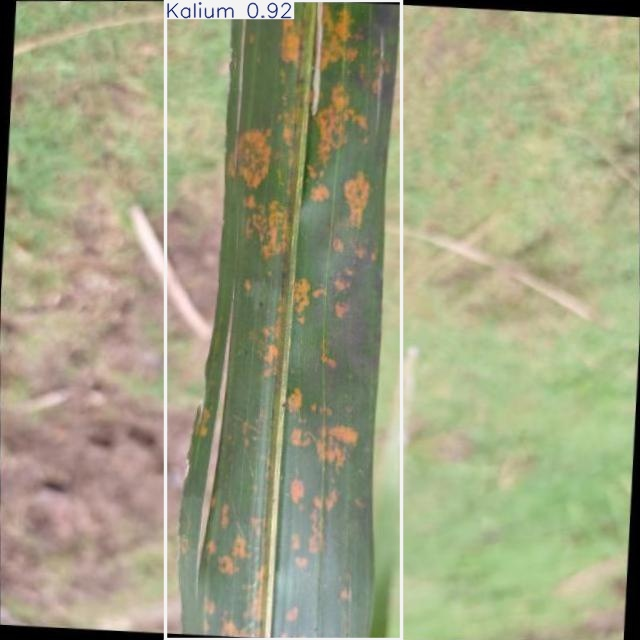Kalium: (165, 0, 401, 640)
